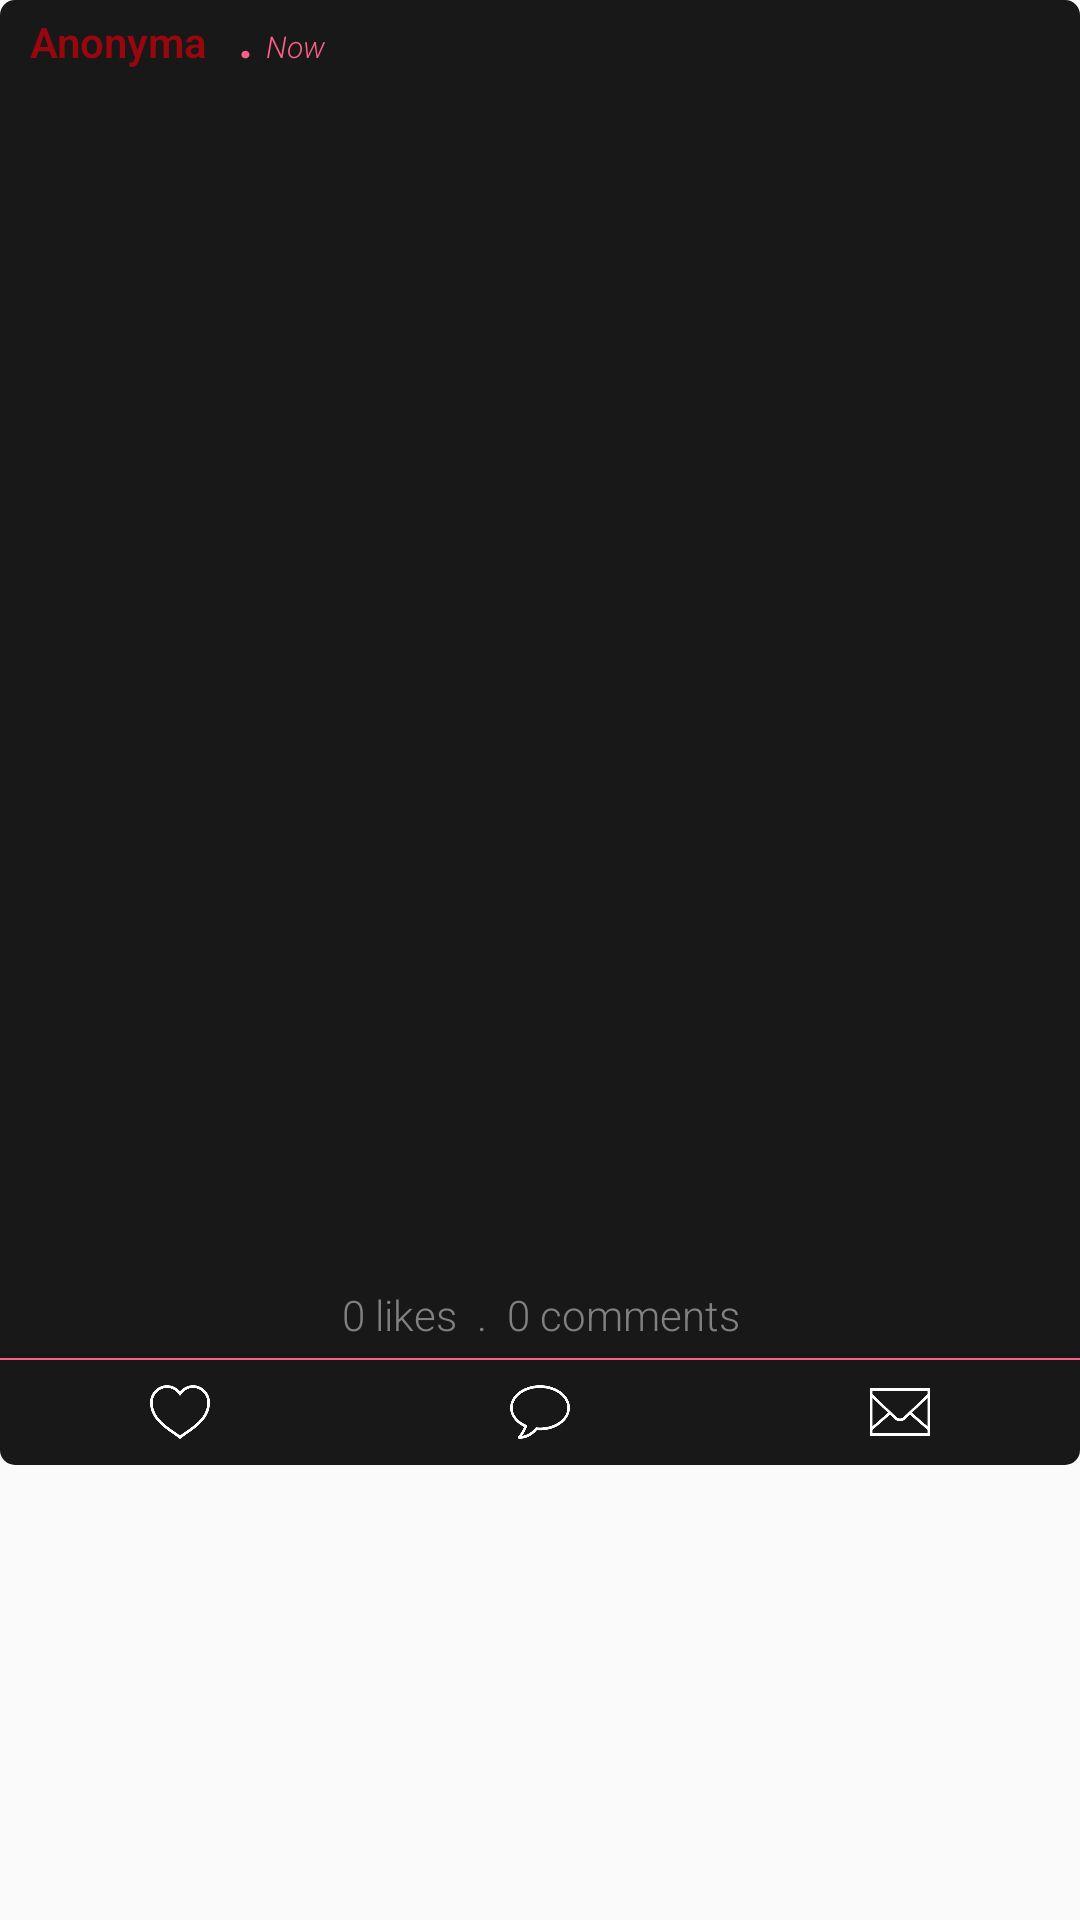

Icon click points for this 1080*1920 phone screenshot, format (x=x, y=y):
commenticon: (x=540, y=1412)
likeicon: (x=180, y=1412)
messageicon: (x=900, y=1412)
